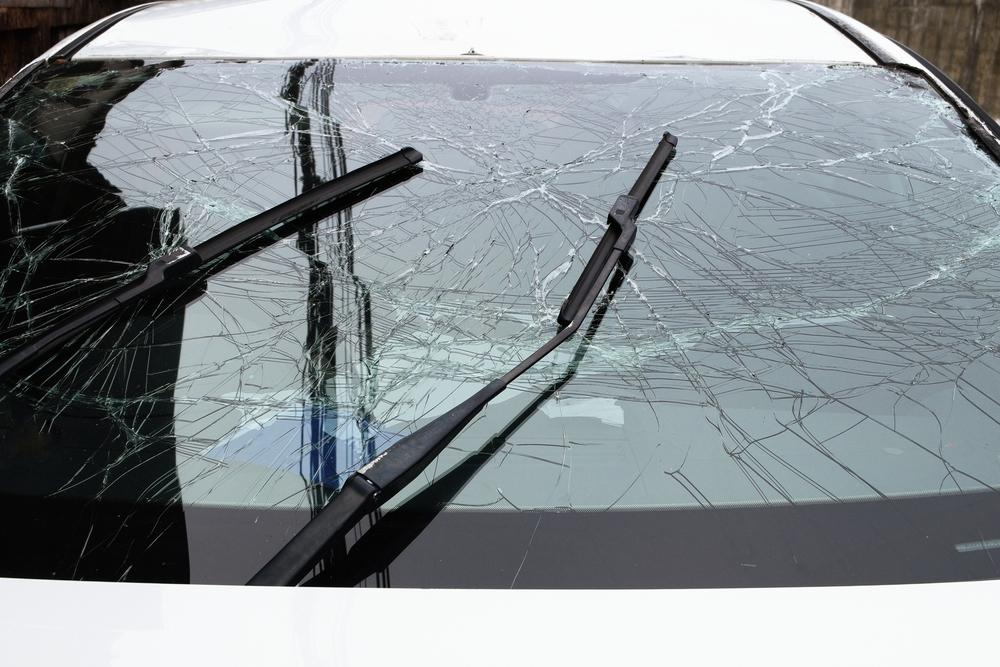glass shatter: (0, 60, 1000, 588)
